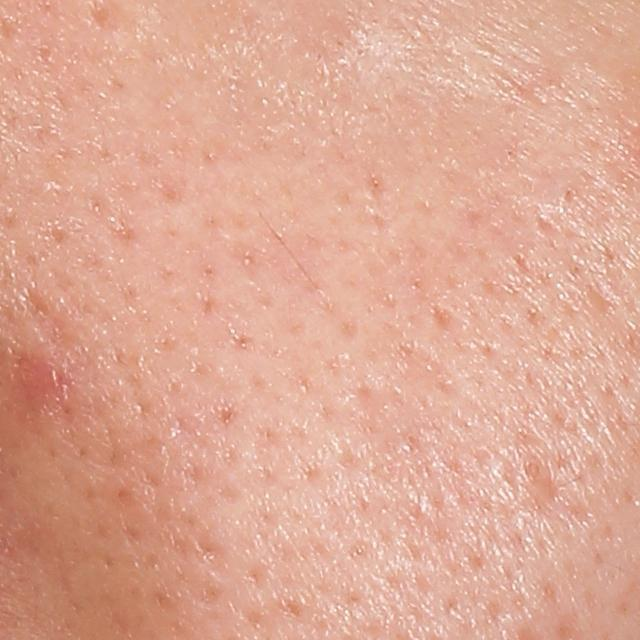atrophic_scar: (433, 301, 472, 336)
